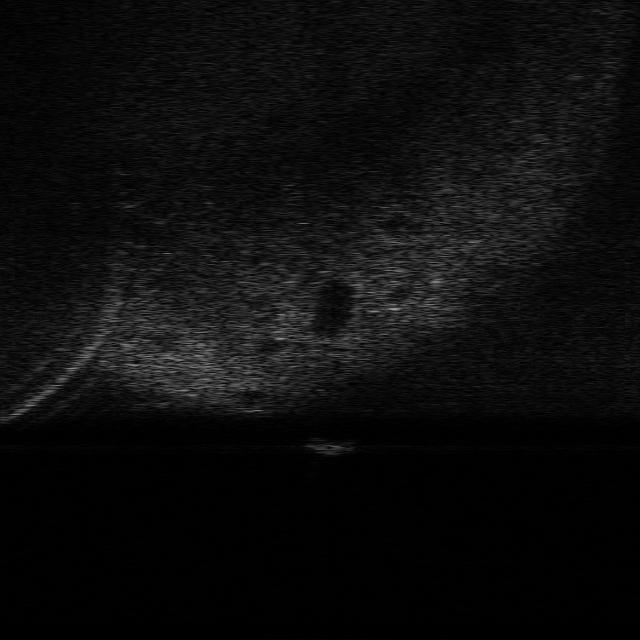cube: (306, 436, 362, 457)
